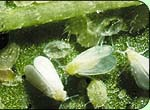whitefly: (23, 55, 79, 109), (60, 42, 116, 83), (116, 42, 150, 93)
